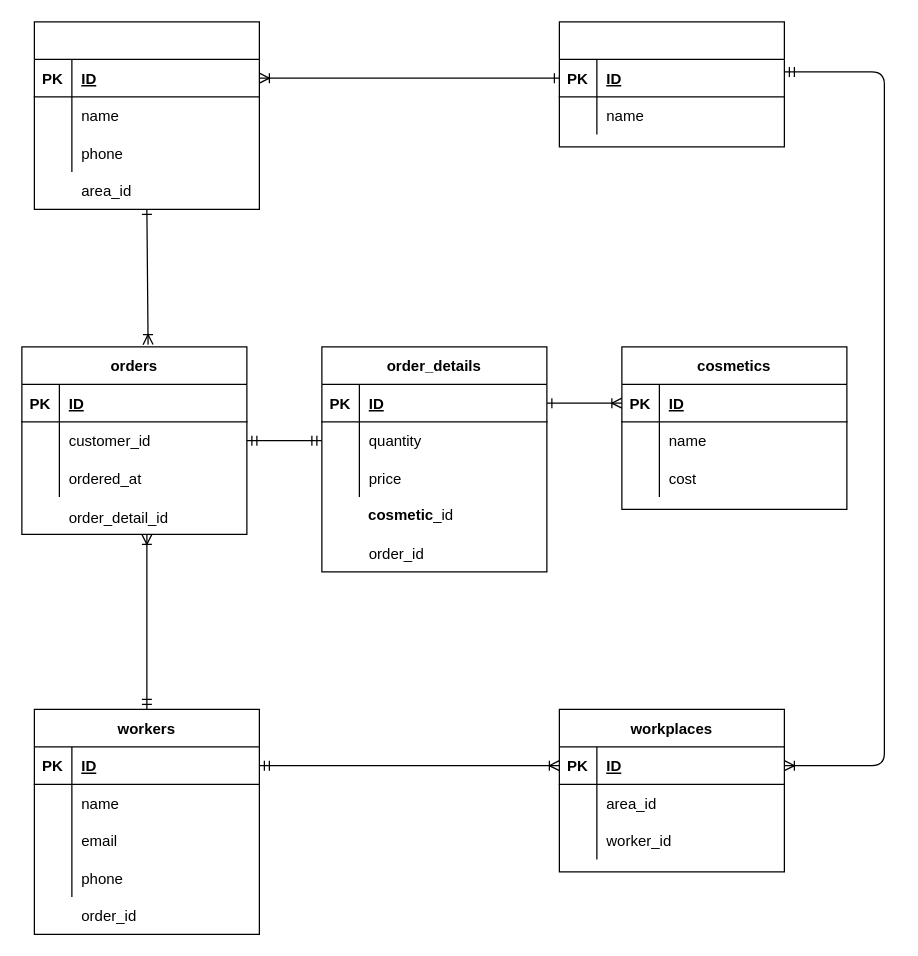
Image size: 918x956. Some labels were removed from this diagram. The box of each missing label's shape, as (x1, y1, x2, y2) in pixels:
areas: (558, 21, 784, 147)
customers: (33, 21, 259, 209)
